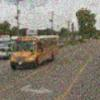buses: (9, 34, 60, 71)
